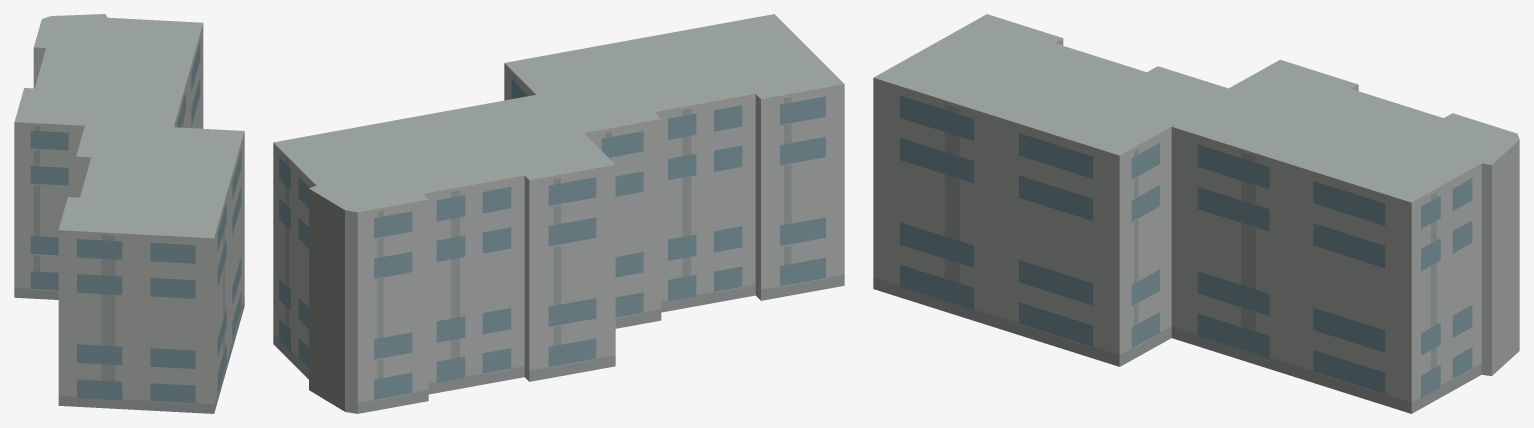
File: survey-upis-32801784.glb
3 renders of one model, left to right at view 1: azimuth 30°, elevation 25°; view 2: azimuth 150°, elevation 25°; view 3: azimuth 270°, elevation 25°, orthographic. The views are drawn at different scales.
Visible parts, largest first — view 1: survey-upis-32801784.tmp; view 2: survey-upis-32801784.tmp; view 3: survey-upis-32801784.tmp.
Boxes of the visible parts, <box> form: survey-upis-32801784.tmp: <box>14,14,244,413</box>; survey-upis-32801784.tmp: <box>273,14,844,413</box>; survey-upis-32801784.tmp: <box>873,14,1519,413</box>.
Size of the model in its own units: 29.2 by 15.25 by 42.28.
